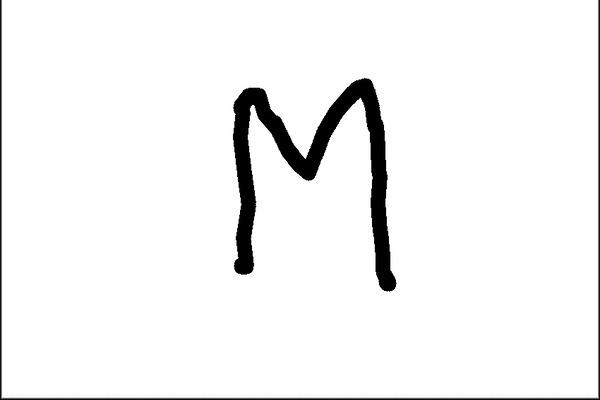M: (223, 78, 399, 300)
